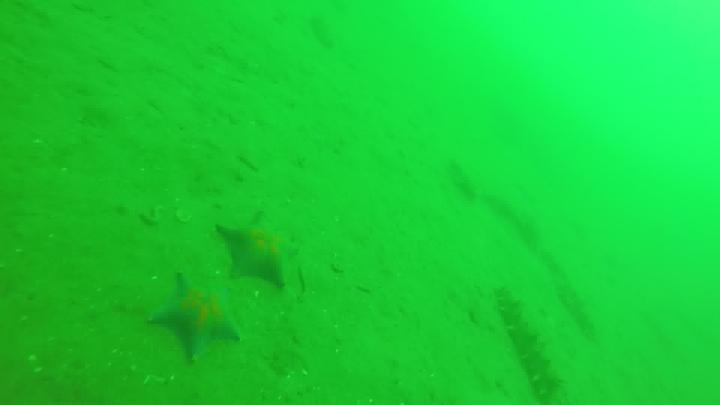holothurian: (489, 194, 606, 343), (497, 289, 568, 405)
scallop: (177, 208, 195, 224)
starfish: (146, 273, 242, 360), (211, 209, 304, 291)
